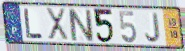5: (92, 8, 116, 45), (118, 10, 138, 44)
J: (144, 12, 161, 44)
L: (22, 8, 45, 40)
N: (67, 7, 96, 43)
X: (45, 7, 70, 43)
